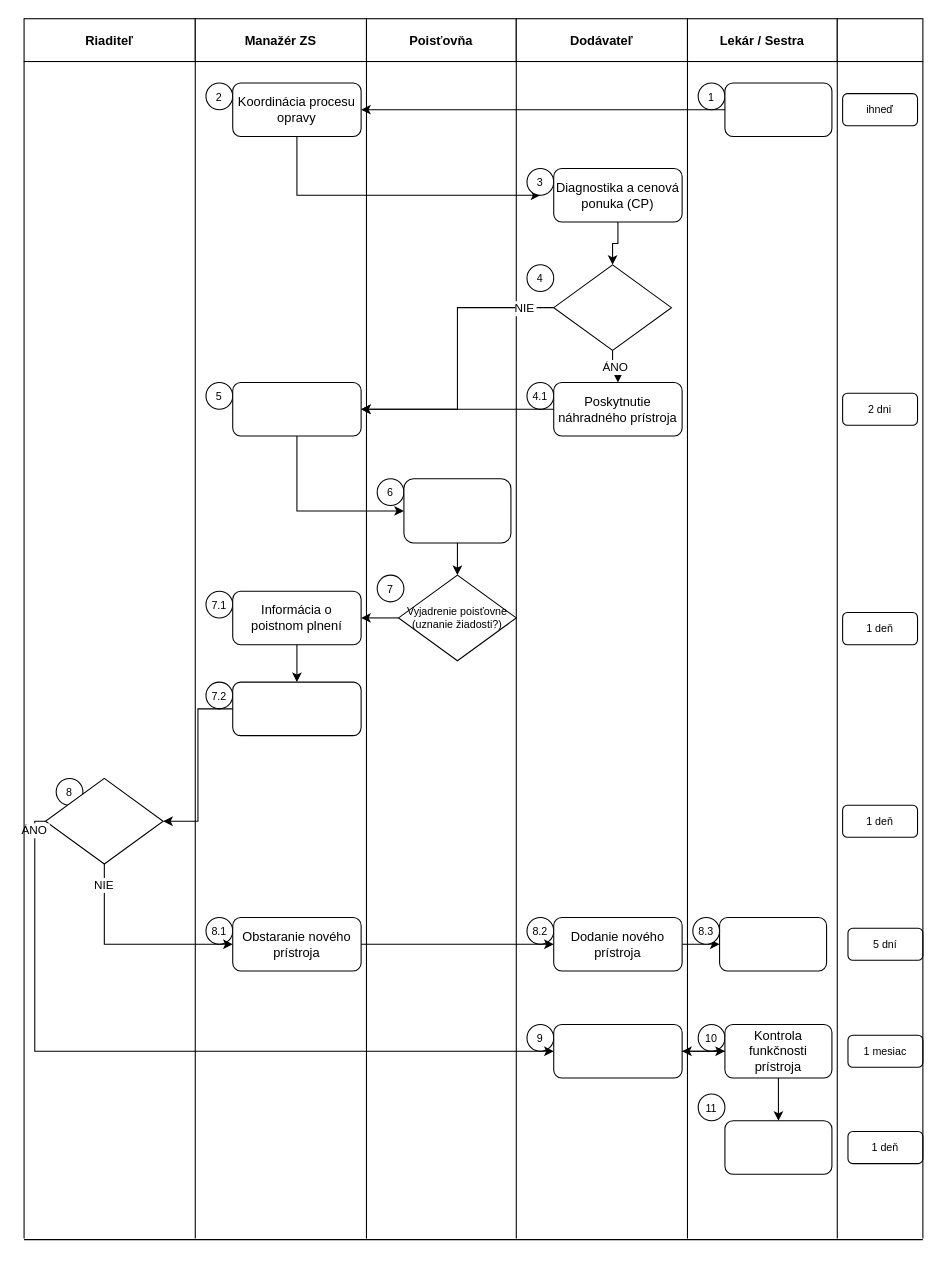
The diagram is 947 pixels wide and 1264 high, and some of its shapes have lost their labels. Here are the shapes that lost their labels. From the top down, the centre of each, then its label:
At (x=879, y=40): "Trvanie".
At (x=778, y=109): "Identifikácia poruchy prístroja".
At (x=612, y=307): "Existuje servisná zmluva?".
At (x=296, y=408): "Zistenie a spracovanie ceny opravy".
At (x=457, y=510): "Nahlásenie poistnej udalosti".
At (x=296, y=708): "Príprava podkladov pre riaditeľa".
At (x=103, y=820): "Rozhodnutie o realizácii opravy".
At (x=773, y=943): "Nasadenie nového prístroja".
At (x=617, y=1050): "Realizácia opravy prístroja".
At (x=778, y=1147): "Nasadenie opraveného prístroja".
